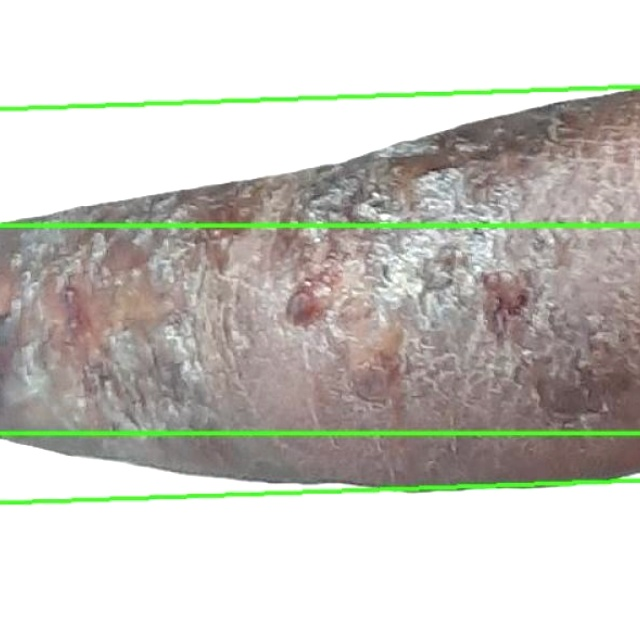Eczema: (0, 87, 639, 503), (0, 0, 639, 225), (0, 433, 639, 639)
